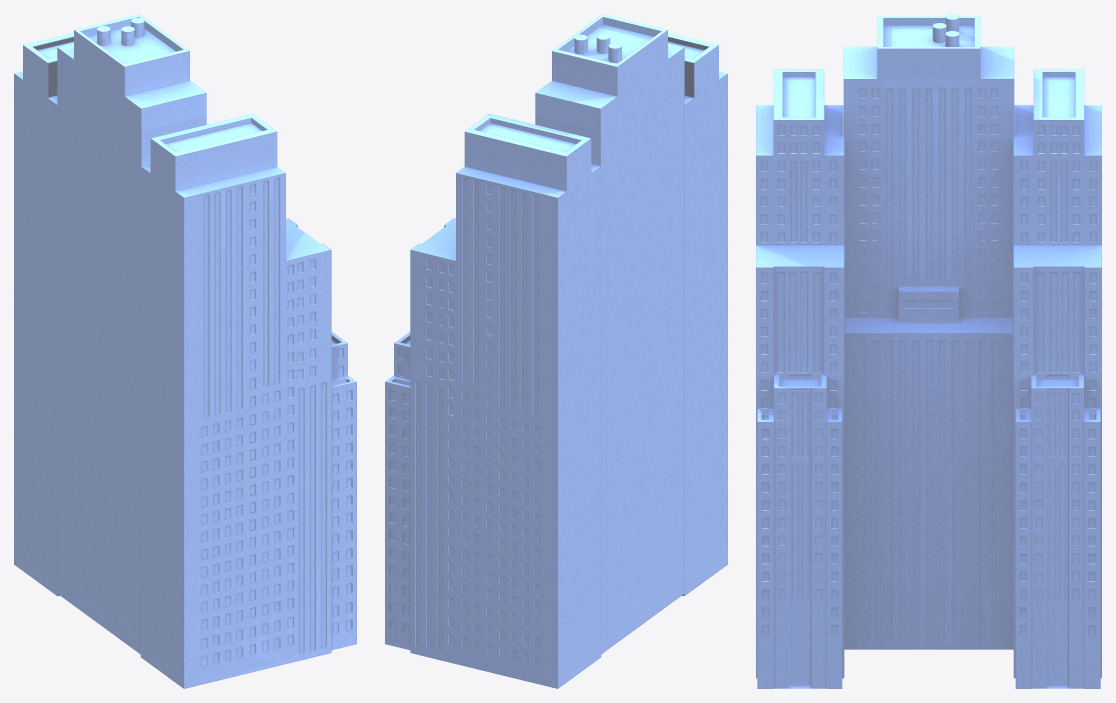
The model's file is 420_lex_on.glb.
3 renders of one model, left to right at view 1: azimuth 30°, elevation 25°; view 2: azimuth 150°, elevation 25°; view 3: azimuth 270°, elevation 25°, orthographic.
Visible parts, largest first — view 1: Empty_Mesh; view 2: Empty_Mesh; view 3: Empty_Mesh.
Part boxes in pixels (<box>): Empty_Mesh: <box>14,14,356,688</box>; Empty_Mesh: <box>385,14,727,688</box>; Empty_Mesh: <box>756,14,1101,688</box>.
Bounding box in the file's own units: 5.68 × 18.32 × 9.64.
1 material, 1 textured.
